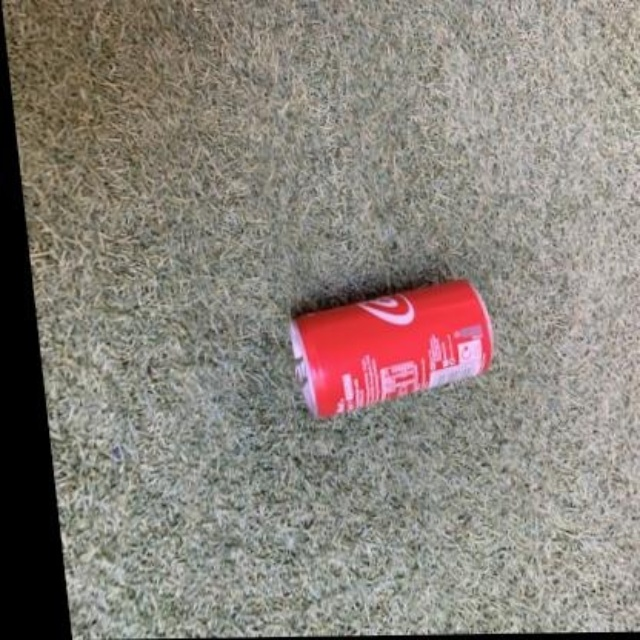trash: (291, 280, 491, 417)
